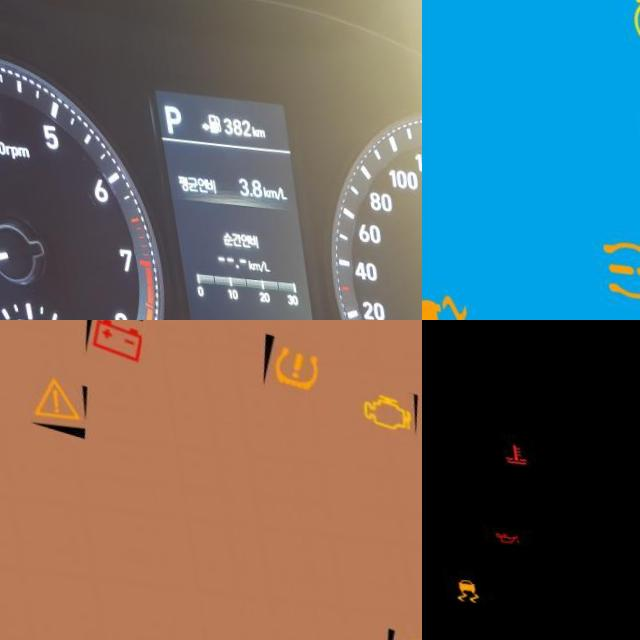High Engine Coolant Temperature: (492, 428, 523, 458)
